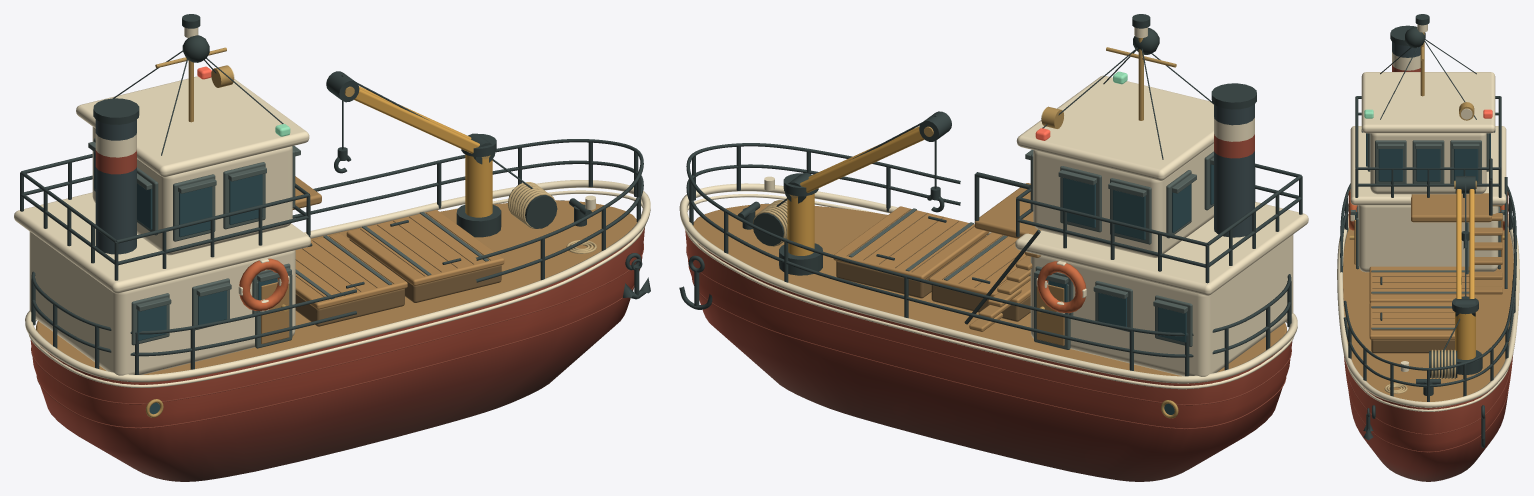
The model's file is working-boat.glb.
3 views of the same model, side by side, from view 1: azimuth 30°, elevation 25°; view 2: azimuth 150°, elevation 25°; view 3: azimuth 270°, elevation 25° (orthographic). The views are drawn at different scales.
Parts seen in each view (by area): view 1: cargo-hull, cream (×5), aft-house, open-cargo-deck, hatch (×2), rail (×6), wheelhouse, cabin-window (×4), stack (×2), seam (×2), crane (×2), plateSeam (×2) (+5 smaller); view 2: cargo-hull, cream (×5), aft-house, open-cargo-deck, rail (×6), hatch (×2), wheelhouse, cabin-window (×5), stack (×2), crane (×2), seam (×2), plateSeam (×2) (+6 smaller); view 3: cream (×5), cargo-hull, open-cargo-deck, aft-house, hatch (×2), rail (×12), wheelhouse, frame (×7), cabin-window (×3), crane (×3), bridge-wing, deck (×5) (+6 smaller).
Part boxes in pixels (x1,y1,x2,y2): cargo-hull: [30, 227, 644, 481]; cream (×5): [14, 76, 650, 387]; aft-house: [29, 231, 295, 375]; open-cargo-deck: [36, 200, 636, 374]; hatch (×2): [295, 210, 504, 309]; rail (×6): [31, 98, 643, 356]; wheelhouse: [92, 127, 292, 255]; cabin-window (×4): [137, 174, 262, 340]; stack (×2): [95, 119, 136, 254]; seam (×2): [295, 239, 501, 326]; crane (×2): [354, 88, 492, 217]; plateSeam (×2): [31, 244, 643, 428]; cargo-hull: [685, 231, 1292, 481]; cream (×5): [679, 75, 1308, 389]; aft-house: [1030, 234, 1293, 376]; open-cargo-deck: [693, 204, 1286, 376]; rail (×6): [686, 83, 1291, 357]; hatch (×2): [833, 206, 1030, 303]; wheelhouse: [1033, 143, 1213, 257]; cabin-window (×5): [1063, 178, 1191, 342]; stack (×2): [1214, 104, 1254, 237]; crane (×2): [787, 129, 924, 255]; seam (×2): [836, 235, 1030, 321]; plateSeam (×2): [686, 247, 1291, 429]; cream (×5): [1337, 52, 1519, 411]; cargo-hull: [1344, 357, 1512, 481]; open-cargo-deck: [1343, 228, 1513, 401]; aft-house: [1358, 205, 1498, 272]; hatch (×2): [1369, 266, 1469, 339]; rail (×12): [1340, 25, 1516, 387]; wheelhouse: [1370, 133, 1486, 194]; frame (×7): [1371, 140, 1481, 329]; cabin-window (×3): [1378, 149, 1478, 181]; crane (×3): [1455, 189, 1475, 359]; bridge-wing: [1411, 193, 1491, 222]; deck (×5): [1474, 227, 1502, 294].
Size of the model in its own units: 8.89 by 6.16 by 3.11.
